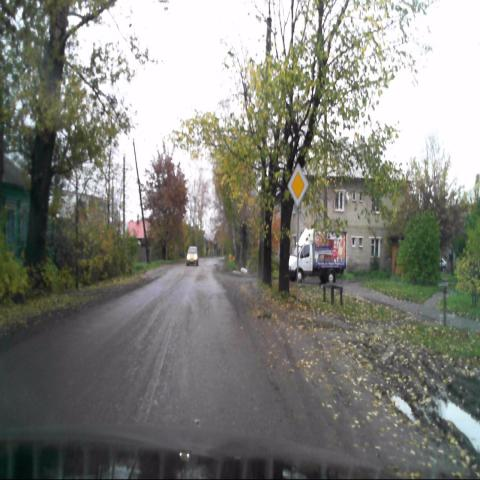2_1: (287, 161, 309, 207)
